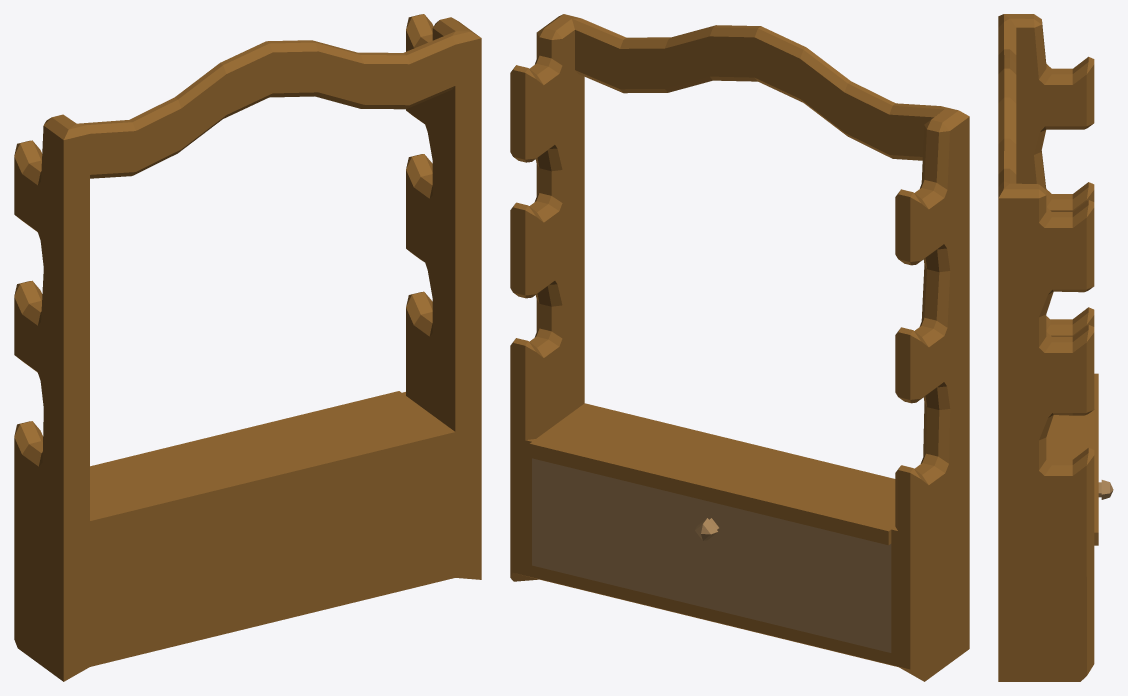
File: WeaponRak.fbx
The picture shows the model from 3 angles, left to right: view 1: azimuth 30°, elevation 25°; view 2: azimuth 150°, elevation 25°; view 3: azimuth 270°, elevation 25°; orthographic projection. The views are drawn at different scales.
Visible parts, largest first — view 1: Weapon rack; view 2: Weapon rack; view 3: Weapon rack.
Boxes of the visible parts, box(x1,y1,x2,y2) form: Weapon rack: box(14, 14, 481, 681); Weapon rack: box(510, 14, 969, 681); Weapon rack: box(998, 14, 1113, 681).
Bounding box in the file's own units: 90 × 120 × 24.06.
